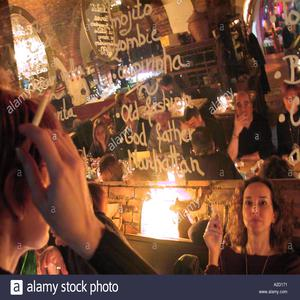cigarette: (20, 86, 52, 157)
